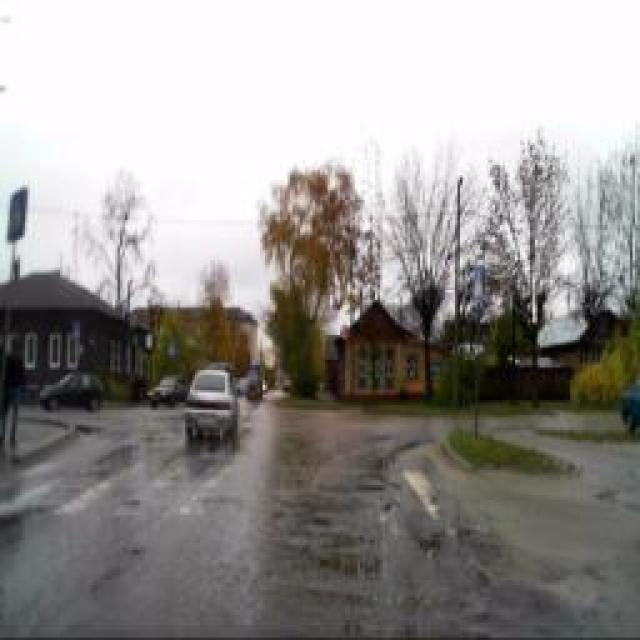sign: (472, 264, 482, 304)
